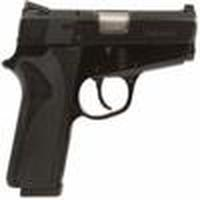gun: (1, 3, 199, 200)
